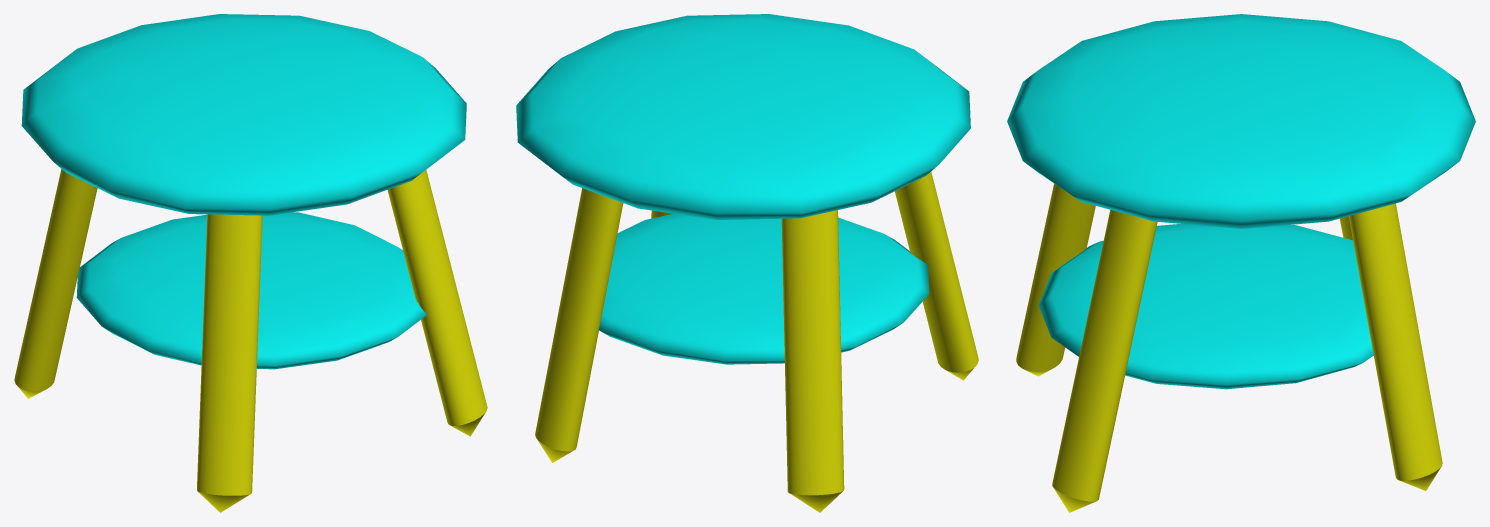
Rendered from SideTable.fbx.
3 views of the same model, side by side, from view 1: azimuth 30°, elevation 25°; view 2: azimuth 150°, elevation 25°; view 3: azimuth 270°, elevation 25° (orthographic). The views are drawn at different scales.
Parts seen in each view (by area): view 1: pCube30, pCube31, pCylinder4, pCylinder2, pCylinder5; view 2: pCube30, pCube31, pCylinder5, pCylinder3, pCylinder4; view 3: pCube30, pCube31, pCylinder2, pCylinder3, pCylinder4.
Part boxes in pixels (x1,y1,x2,y2): pCube30: (21, 14, 466, 215); pCube31: (76, 212, 427, 369); pCylinder4: (197, 214, 262, 512); pCylinder2: (387, 170, 487, 436); pCylinder5: (14, 169, 97, 398); pCube30: (516, 14, 970, 219); pCube31: (598, 213, 929, 364); pCylinder5: (781, 210, 844, 512); pCylinder3: (535, 188, 623, 462); pCylinder4: (895, 171, 978, 380); pCube30: (1007, 14, 1475, 228); pCube31: (1038, 224, 1374, 389); pCylinder2: (1052, 210, 1157, 512); pCylinder3: (1348, 203, 1442, 490); pCylinder4: (1016, 183, 1095, 376).
Size of the model in its own units: 103 by 86.62 by 103.
